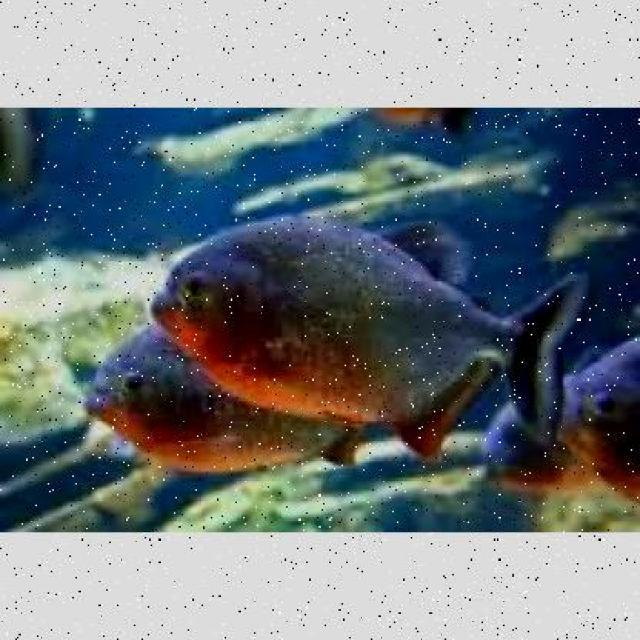ikan-pacu: (153, 224, 542, 410), (90, 323, 344, 462)
